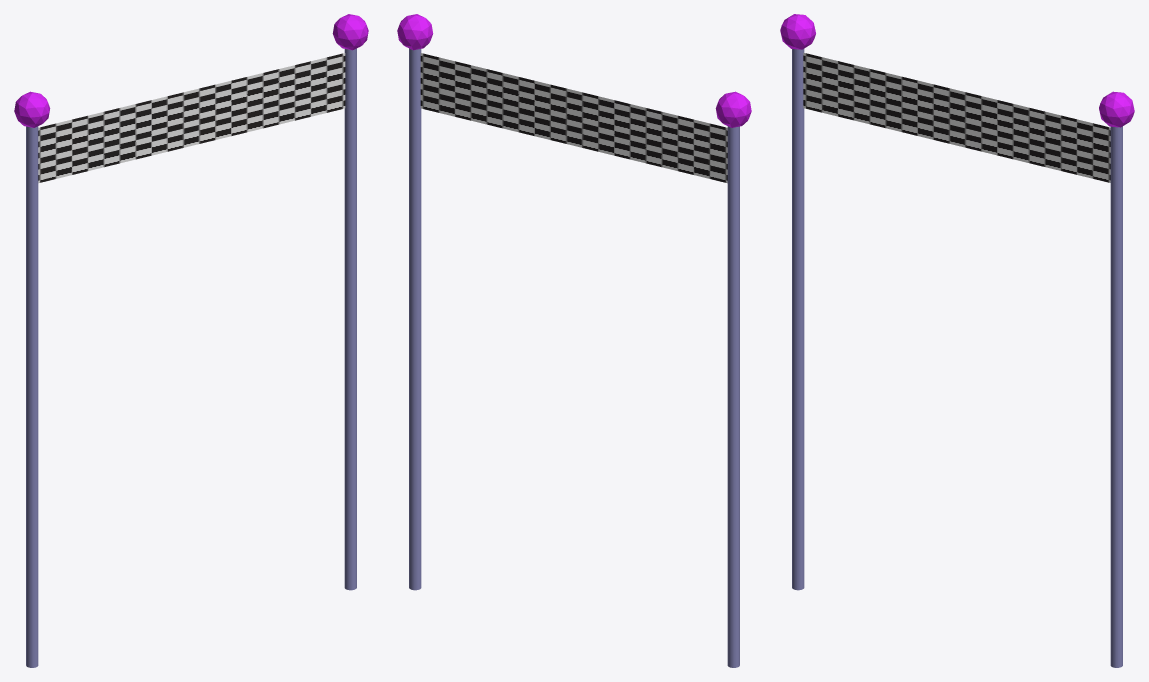
Rendered from finish_line.obj.
3 views of the same model, side by side, from view 1: azimuth 30°, elevation 25°; view 2: azimuth 150°, elevation 25°; view 3: azimuth 330°, elevation 25° (orthographic).
Visible parts, largest first — view 1: Plane.001; view 2: Plane.001; view 3: Plane.001.
Boxes of the visible parts, x1,y1,x2,y2 form: Plane.001: (14, 14, 368, 667); Plane.001: (397, 14, 751, 667); Plane.001: (780, 14, 1134, 667).
Bounding box in the file's own units: 65.71 × 103 × 6.
Materials: 3 (1 with a texture image).
